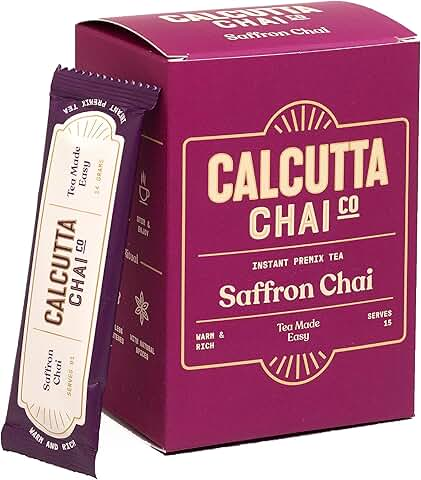Tea: (11, 2, 421, 480)
